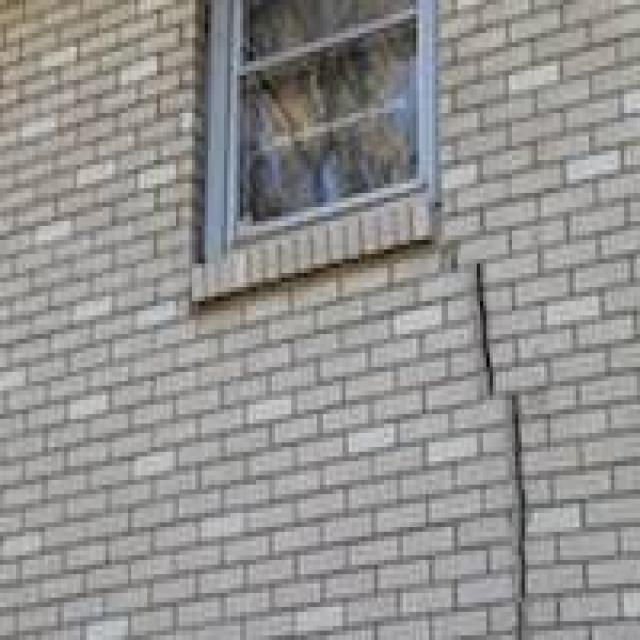Crack: (461, 250, 528, 636)
